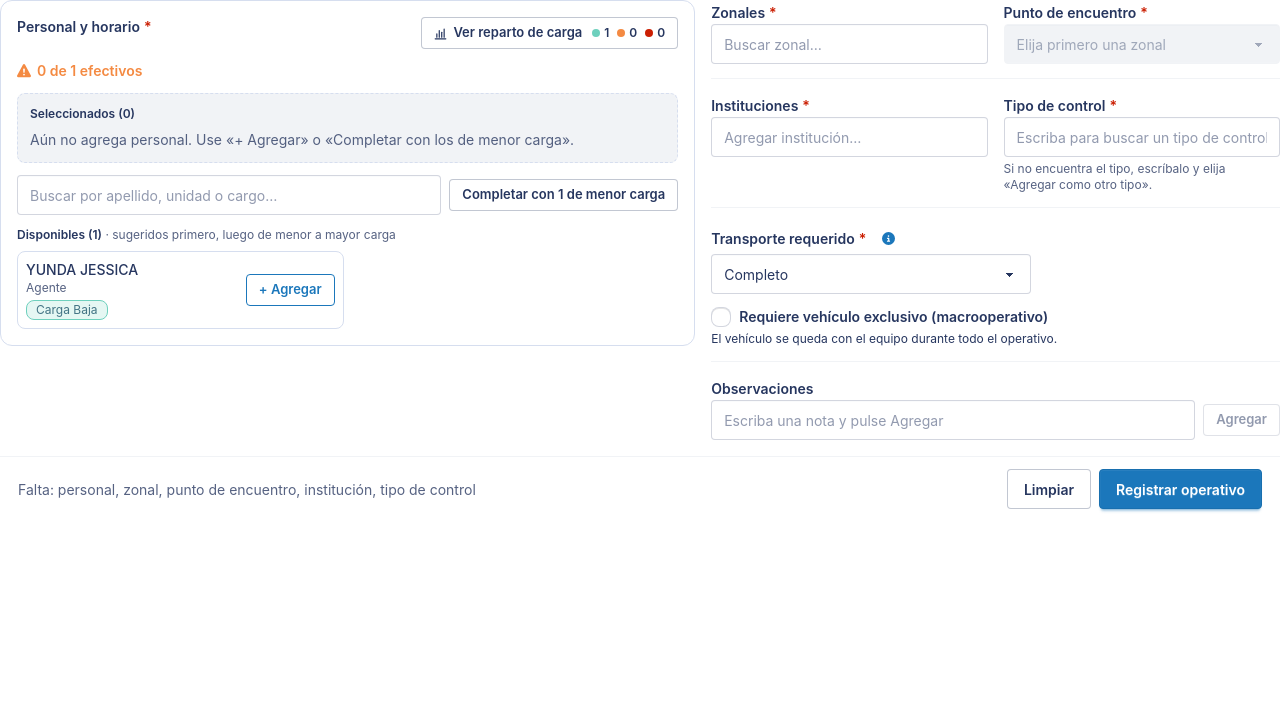
Scenario: FormOperativo · cabecera de «Personal y horario» › «Ver reparto de carga» va en la línea del título de la tarjeta y abre el reparto
The image size is (1280, 720).
Click the button "Ver reparto de carga 1 0 0".
click(550, 33)  # box [421,17,678,49]
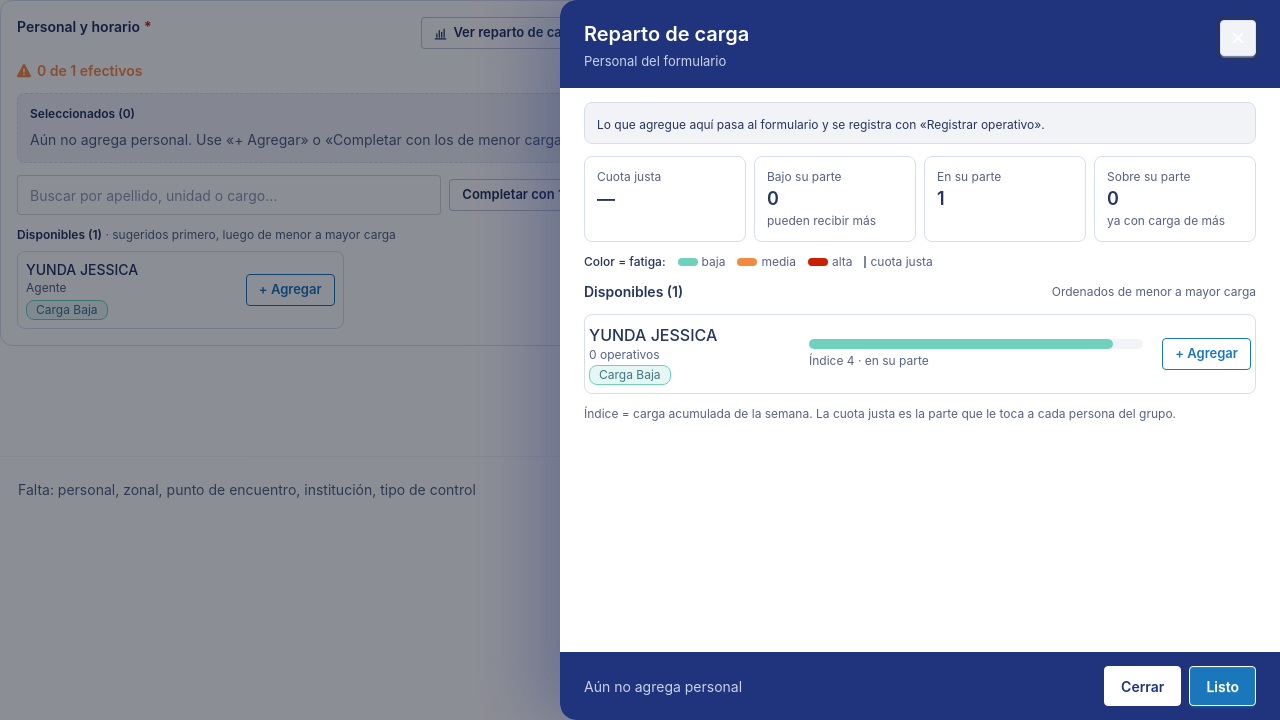
Expected: the dialog "Reparto de carga" is shown, [560,0,1279,719]
Expected: the button "Ver reparto de carga 1 0 0" is expanded, [421,17,678,49]
